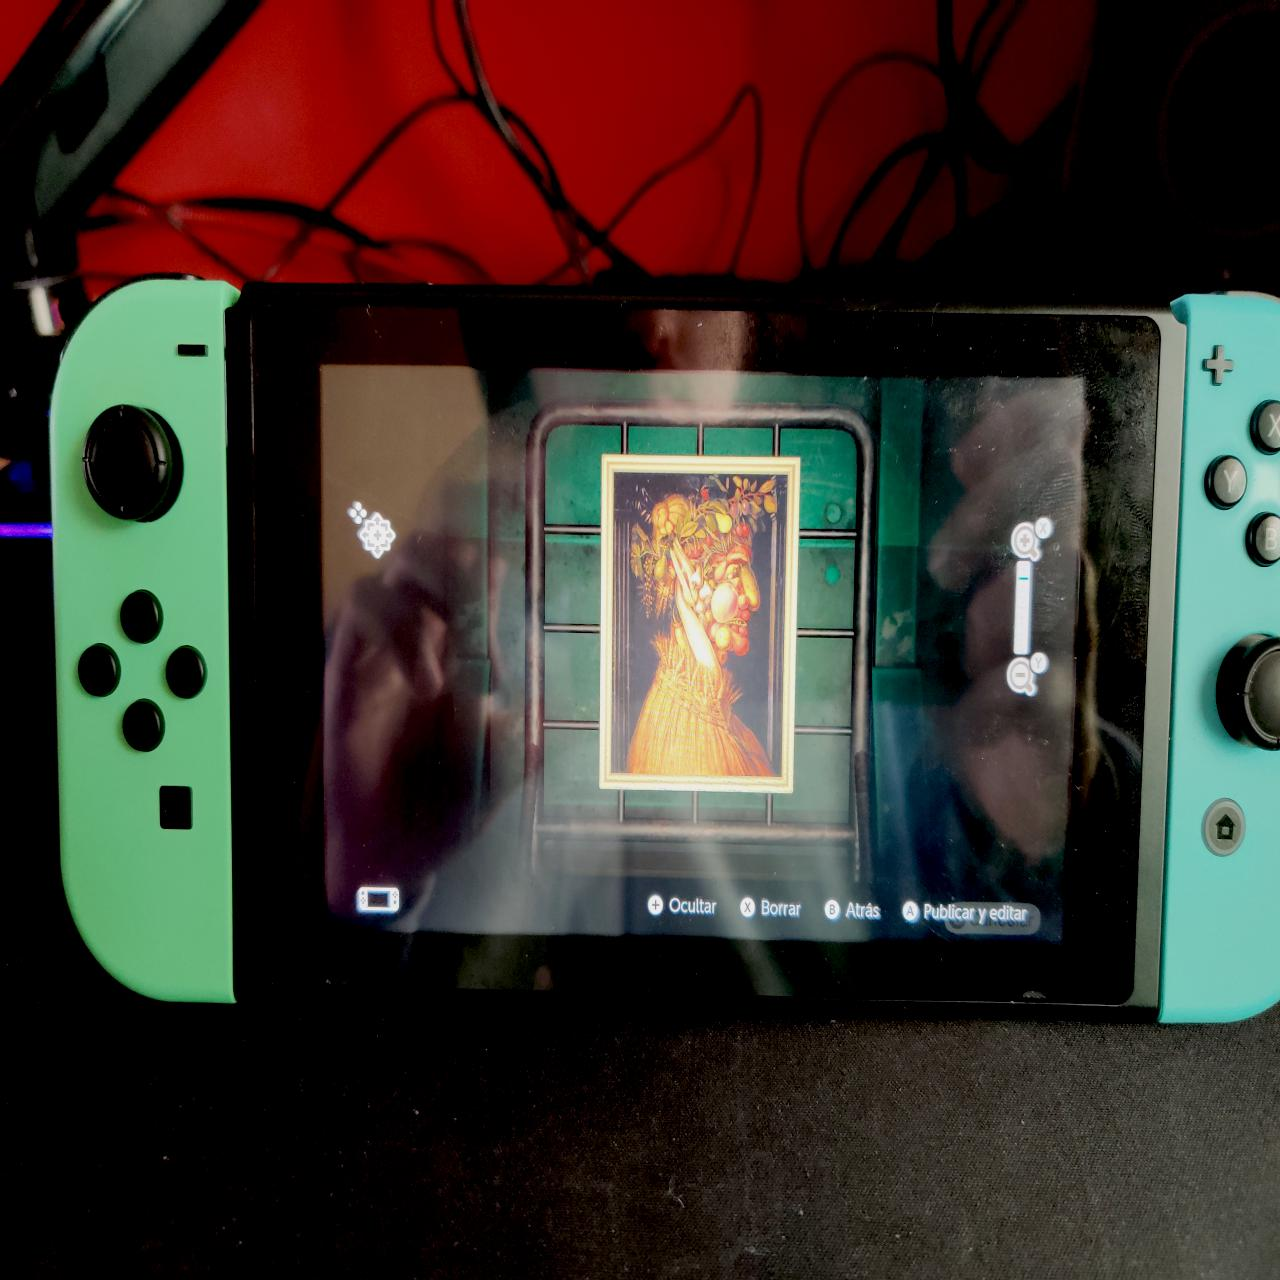SummerFake: (617, 472, 783, 785)
